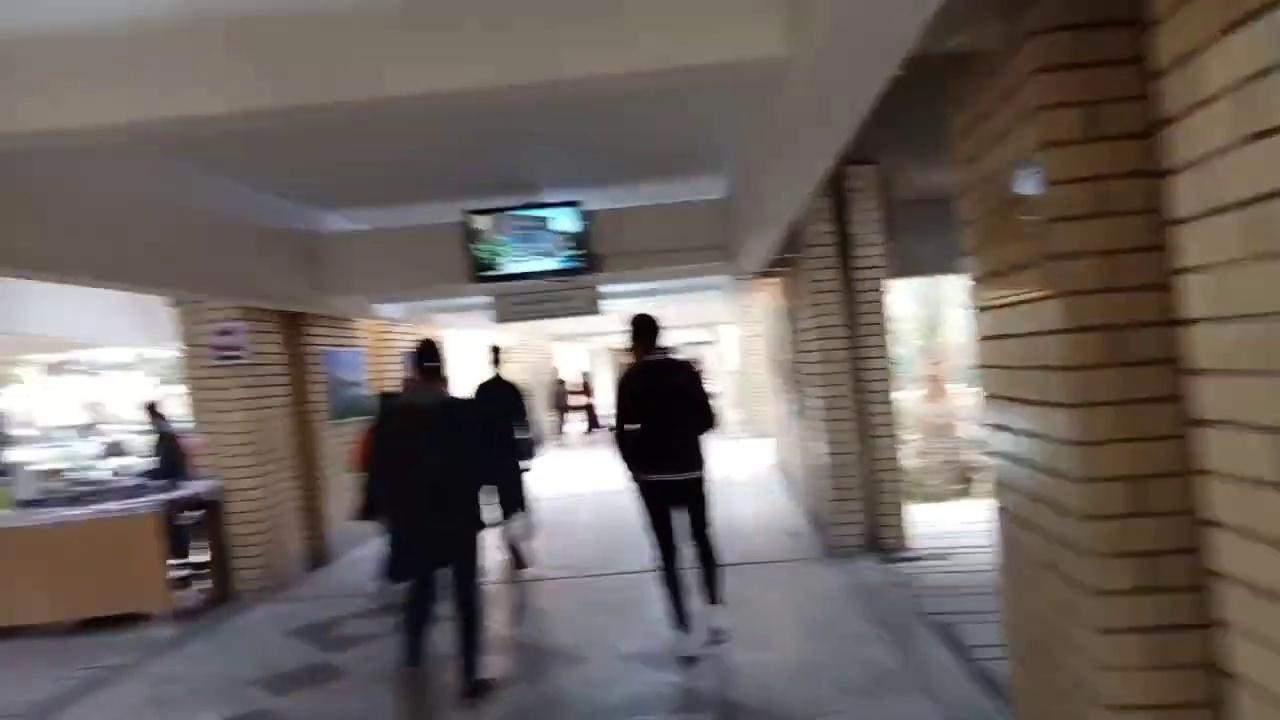person: (358, 337, 526, 702), (613, 312, 733, 661), (473, 343, 537, 570), (582, 379, 602, 433), (552, 378, 568, 434)
tree: (173, 298, 418, 598), (276, 310, 330, 570), (890, 380, 988, 501)
